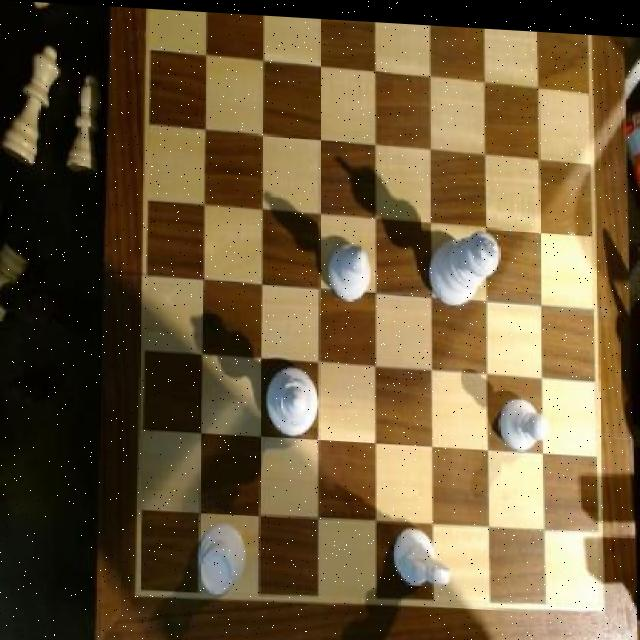black-rook: (328, 232, 377, 309)
white-bishop: (429, 220, 498, 307)
white-king: (396, 519, 454, 603)
white-knight: (489, 380, 548, 450)
white-pawn: (262, 360, 318, 435)
white-queen: (194, 514, 248, 594)
